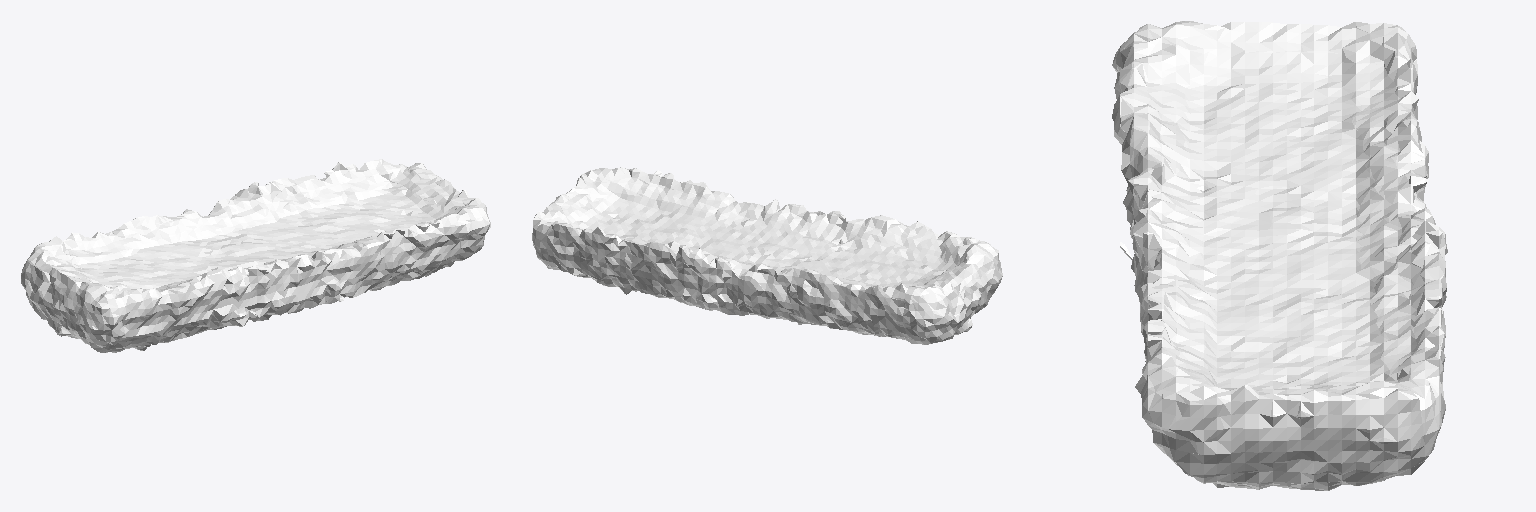
URDF robot description (Amazon_Accessory_Tray_pour_pca_mesh_0.urdf):
<?xml version="1.0" ?>
<robot name="Amazon_Accessory_Tray_pour_pca_mesh_0.urdf">
  <link name="baseLink">
    <contact>
      <lateral_friction value="1.0"/>
      <inertia_scaling value="1.0"/>
    </contact>
    <inertial>
      <origin rpy="0 0 0" xyz="0.000000 0.000000 0.000000"/>
      <mass value="0.000000"/>
      <inertia ixx="0.000000" ixy="0.000000" ixz="0.000000" iyy="0.000000" iyz="0.000000" izz="0.000000"/>
    </inertial>
    <visual>
      <origin rpy="0 0 0" xyz="0 0 0"/>
      <geometry>
       <mesh filename="Amazon_Accessory_Tray_pour_pca_mesh_0.obj" scale="1 1 1"/>
      </geometry>
       <material name="white">
        <color rgba="1 1 1 1"/>
      </material>
    </visual>
    <collision>
      <origin rpy="0 0 0" xyz="0 0 0"/>
      <geometry>
        <mesh filename="Amazon_Accessory_Tray_pour_pca_mesh_0_vhacd.obj" scale="1 1 1"/>
      </geometry>
    </collision>
  </link>
</robot>

--- Render facts (derived) ---
The picture shows the robot from 3 angles, left to right: view 1: azimuth 30°, elevation 25°; view 2: azimuth 150°, elevation 25°; view 3: azimuth 270°, elevation 25°; orthographic projection.
Model Amazon_Accessory_Tray_pour_pca_mesh_0.urdf with 1 links and 0 joints (none), rooted at baseLink, posed all joints at 0.
Links seen in each view (by area): view 1: baseLink; view 2: baseLink; view 3: baseLink.
Link boxes in pixels (box(x1,y1,x2,y2)): baseLink: box(21, 159, 490, 352); baseLink: box(532, 167, 1002, 344); baseLink: box(1112, 21, 1447, 490).
Size in the robot's own frame: 0.2549 by 0.0971 by 0.05 metres.
1 mesh visuals loaded from 1 distinct referenced files (1 OBJ).